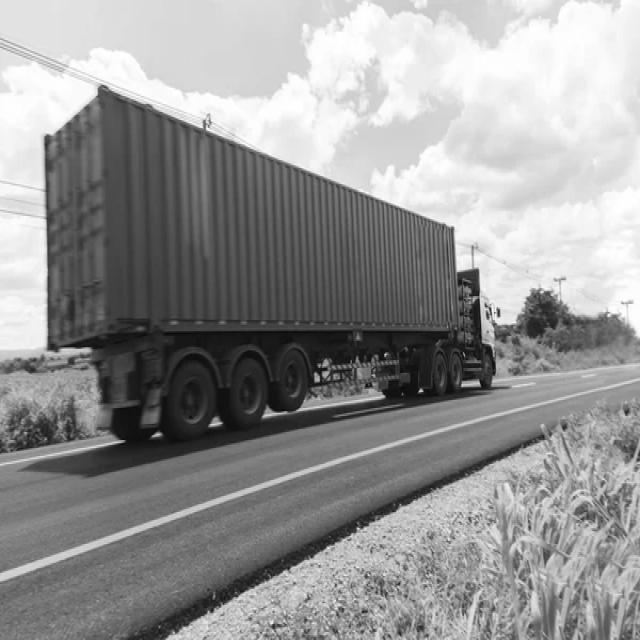Truck: (44, 88, 497, 442)
